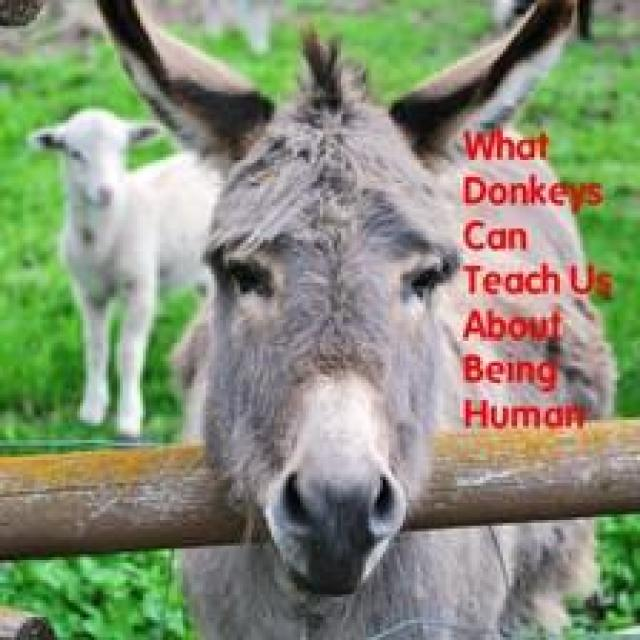Donkey: (89, 0, 620, 637), (23, 103, 223, 440), (0, 0, 60, 637), (489, 0, 637, 40)
